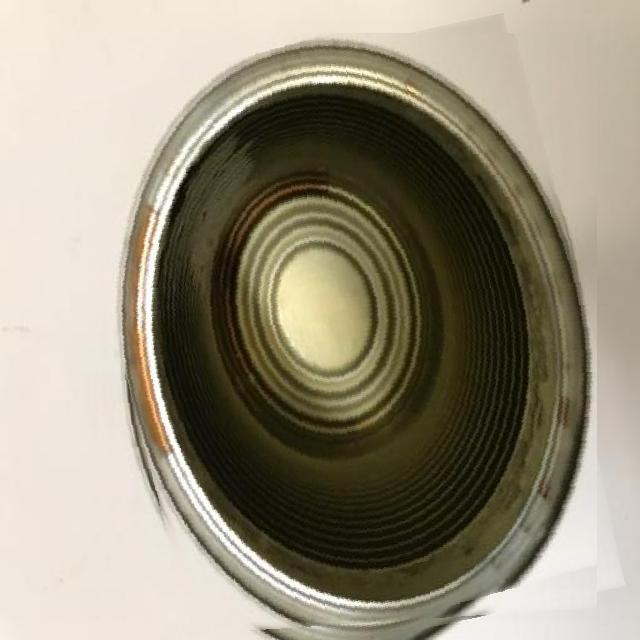recyclable: (81, 33, 597, 640)
